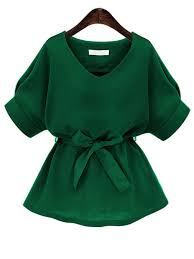C_blouse: (7, 22, 187, 230)
